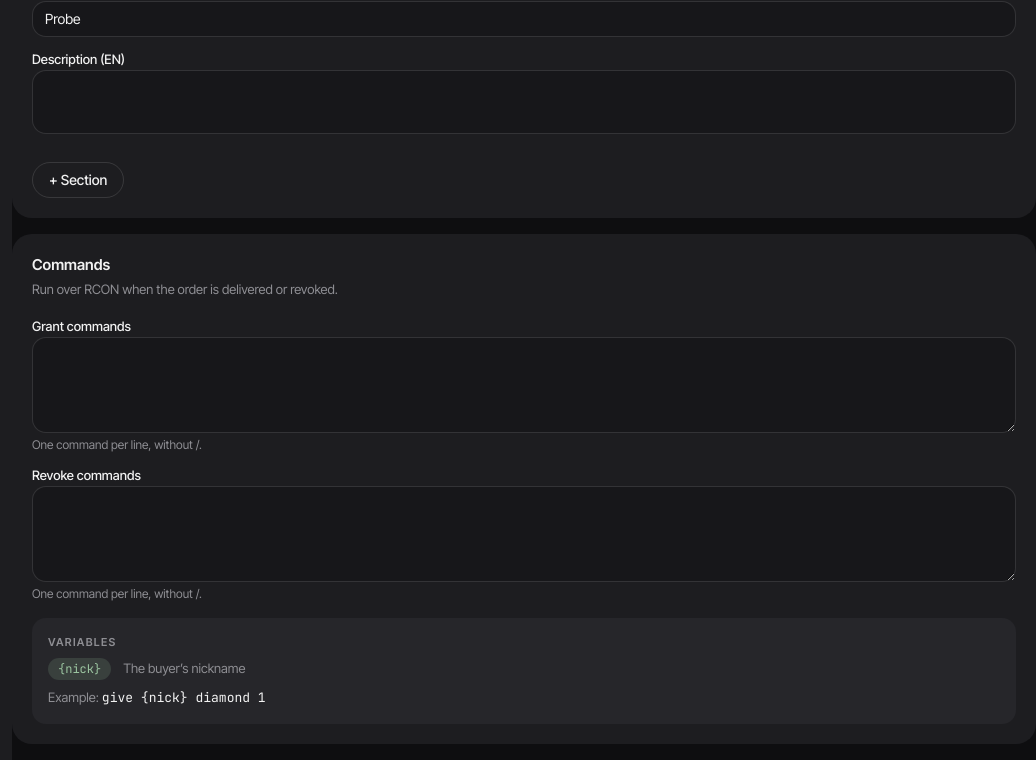
Scenario: ProductEditor › clicking {nick} inserts it at the caret of the grant field
(page scrolled)
Type "say hi " into the text box labelled "Grant commands" at (524, 384), box [32, 336, 1016, 432]
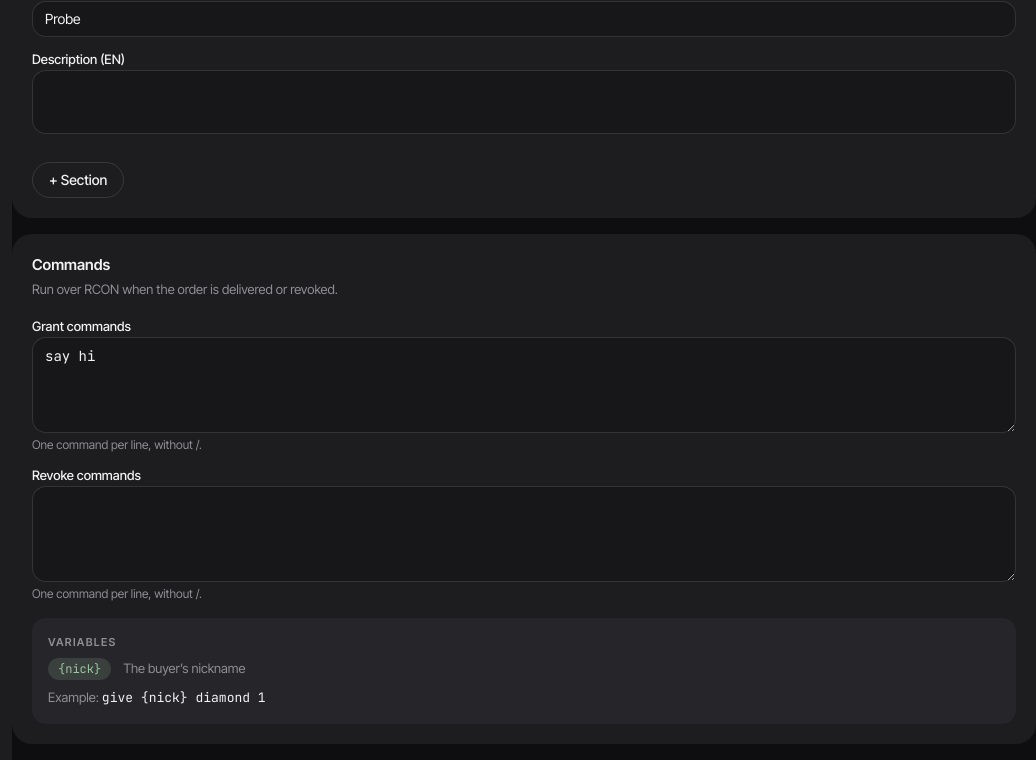
Click the button with aria-label "Insert {nick}" at (80, 669), box [48, 658, 111, 680]
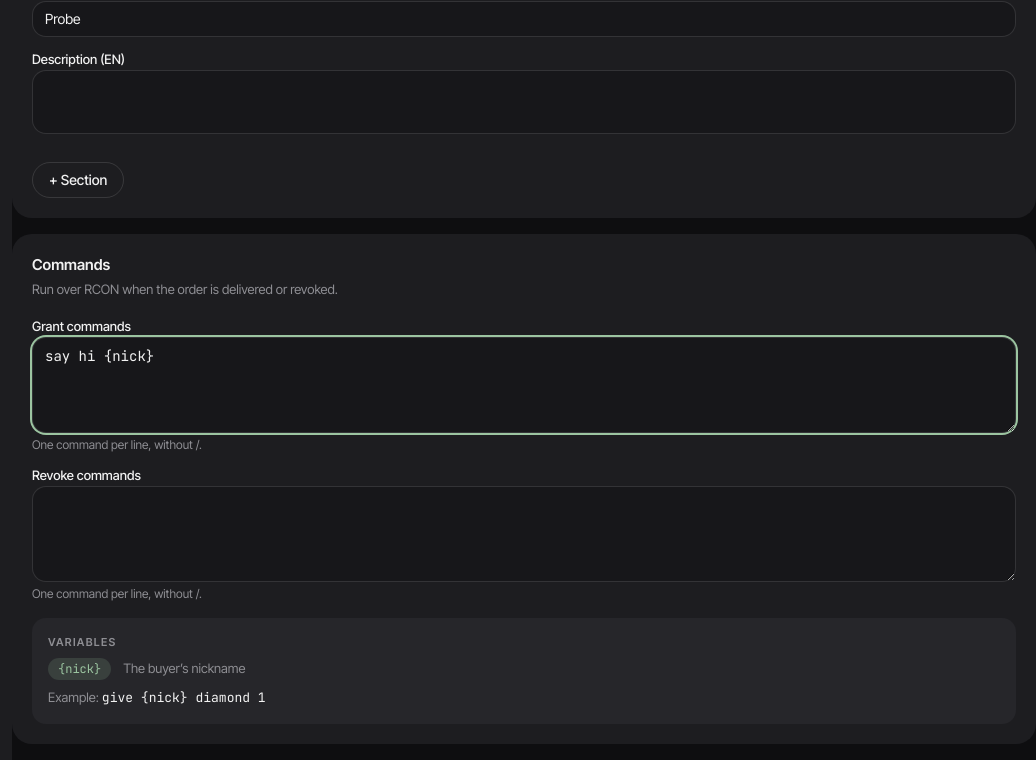
expect the text box labelled "Grant commands" holds "say hi {nick}": met, box [32, 336, 1016, 432]
